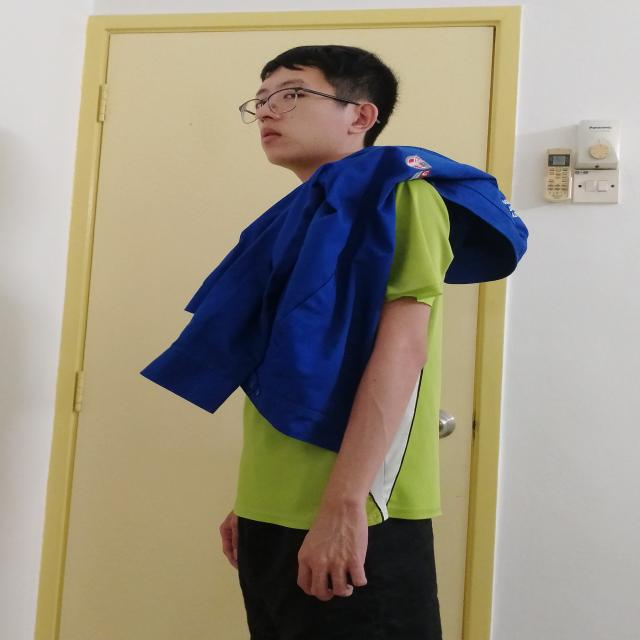person_without_labcoat: (142, 45, 527, 640)
